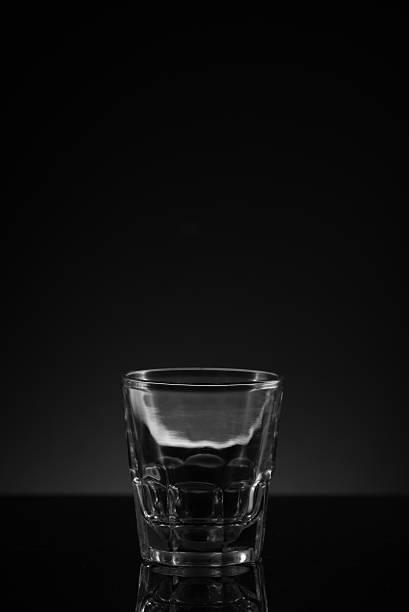glass-normal: (119, 365, 286, 569)
